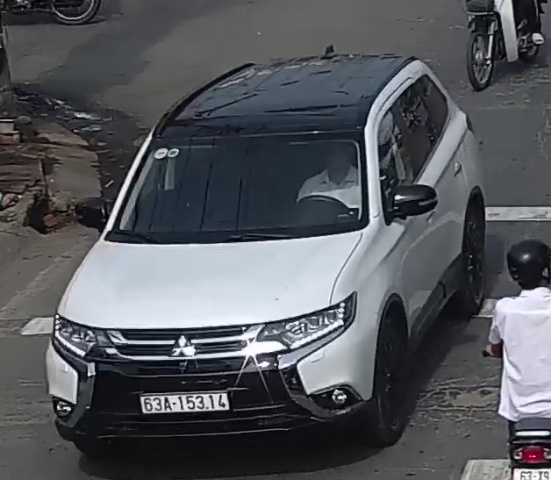vehicle plate: (133, 385, 240, 415)
